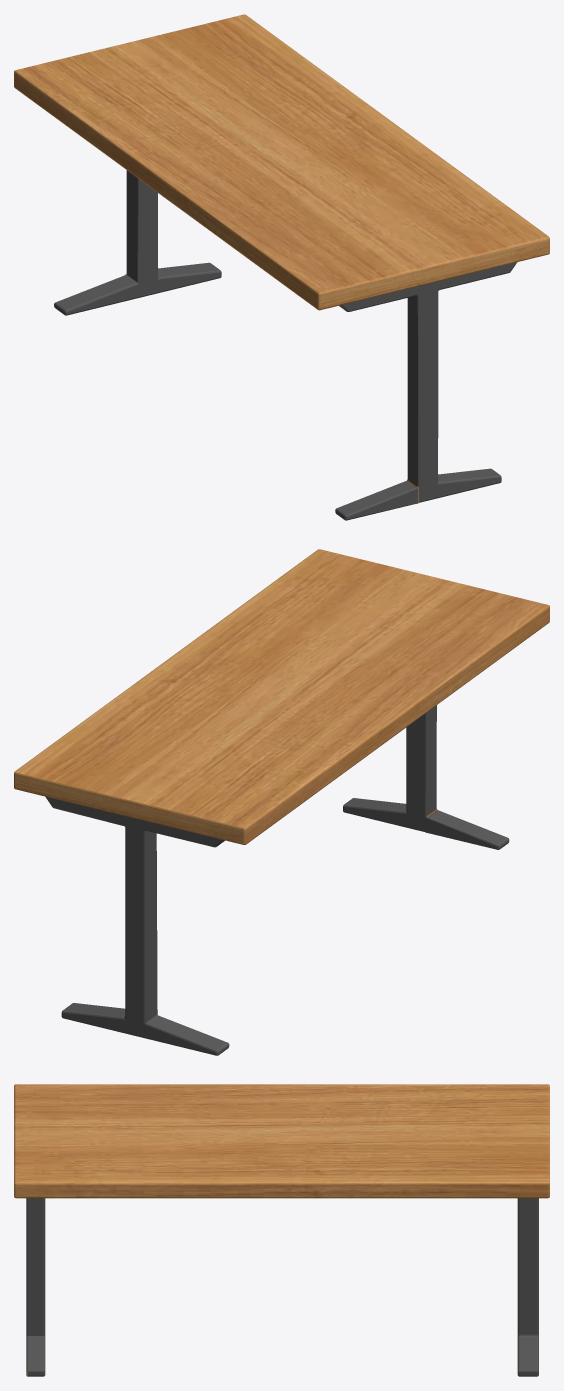
Rendered from desk_01.fbx.
3 views of the same model, one above another, from view 1: azimuth 30°, elevation 25°; view 2: azimuth 150°, elevation 25°; view 3: azimuth 270°, elevation 25° (orthographic). The views are drawn at different scales.
Visible parts, largest first — view 1: Cube; view 2: Cube; view 3: Cube.
Boxes of the visible parts, x1,y1,x2,y2 form: Cube: [14, 14, 549, 520]; Cube: [14, 549, 549, 1055]; Cube: [14, 1084, 549, 1376].
Size of the model in its own units: 200 by 199 by 456.
Materials: 2 (1 with a texture image).
